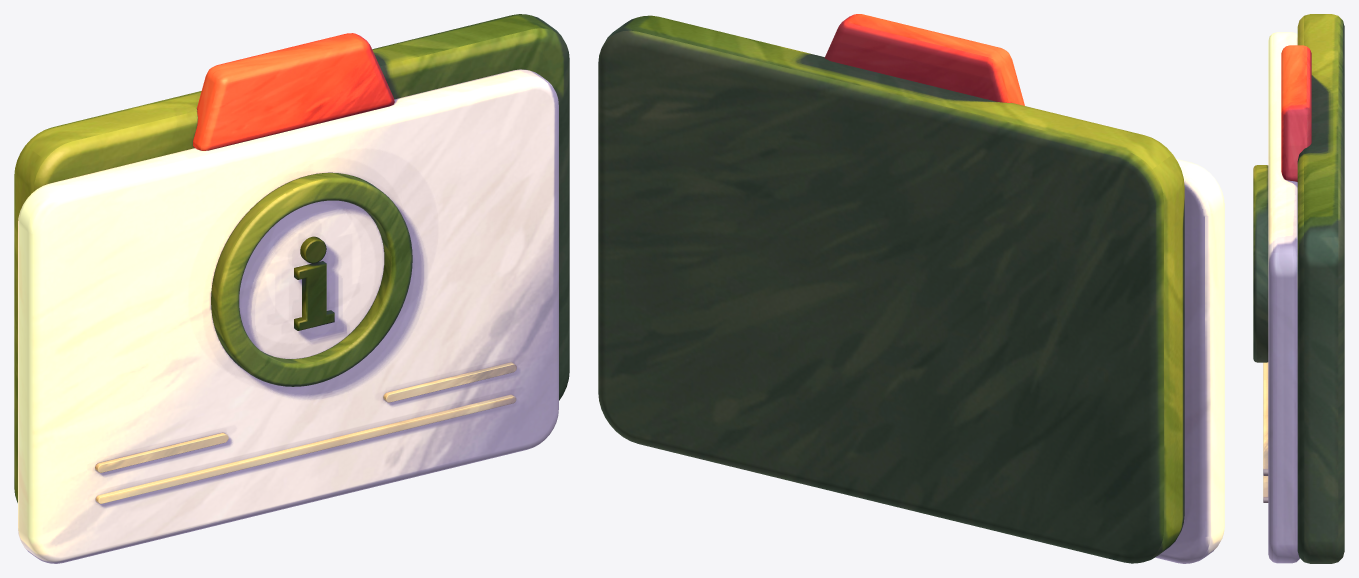
The model's file is about.glb.
3 views of the same model, side by side, from view 1: azimuth 30°, elevation 25°; view 2: azimuth 150°, elevation 25°; view 3: azimuth 270°, elevation 25° (orthographic). The views are drawn at different scales.
Visible parts, largest first — view 1: Ivory index card, Olive index back, Information roundel, Coral index tab, Ruled entry.002, Information letter, Ruled entry.001, Ruled entry; view 2: Olive index back, Ivory index card, Coral index tab; view 3: Olive index back, Ivory index card, Coral index tab, Information roundel, Ruled entry.002, Ruled entry.001.
Boxes of the visible parts, left/top/right/bottom form: Ivory index card: left=18, top=69, right=558, bottom=563; Olive index back: left=14, top=14, right=569, bottom=502; Information roundel: left=211, top=172, right=412, bottom=386; Coral index tab: left=193, top=33, right=394, bottom=150; Ruled entry.002: left=95, top=394, right=516, bottom=503; Information letter: left=294, top=236, right=334, bottom=330; Ruled entry.001: left=383, top=362, right=516, bottom=402; Ruled entry: left=95, top=432, right=228, bottom=472; Olive index back: left=598, top=15, right=1184, bottom=563; Ivory index card: left=1155, top=158, right=1224, bottom=563; Coral index tab: left=824, top=14, right=1024, bottom=105; Olive index back: left=1297, top=14, right=1344, bottom=563; Ivory index card: left=1268, top=32, right=1299, bottom=563; Coral index tab: left=1281, top=45, right=1311, bottom=181; Information roundel: left=1253, top=165, right=1268, bottom=362; Ruled entry.002: left=1263, top=362, right=1268, bottom=502; Ruled entry.001: left=1263, top=415, right=1268, bottom=475.
Bounding box in the file's own units: 2.4 × 1.82 × 0.3885.
Materials: 5 (5 with a texture image).
